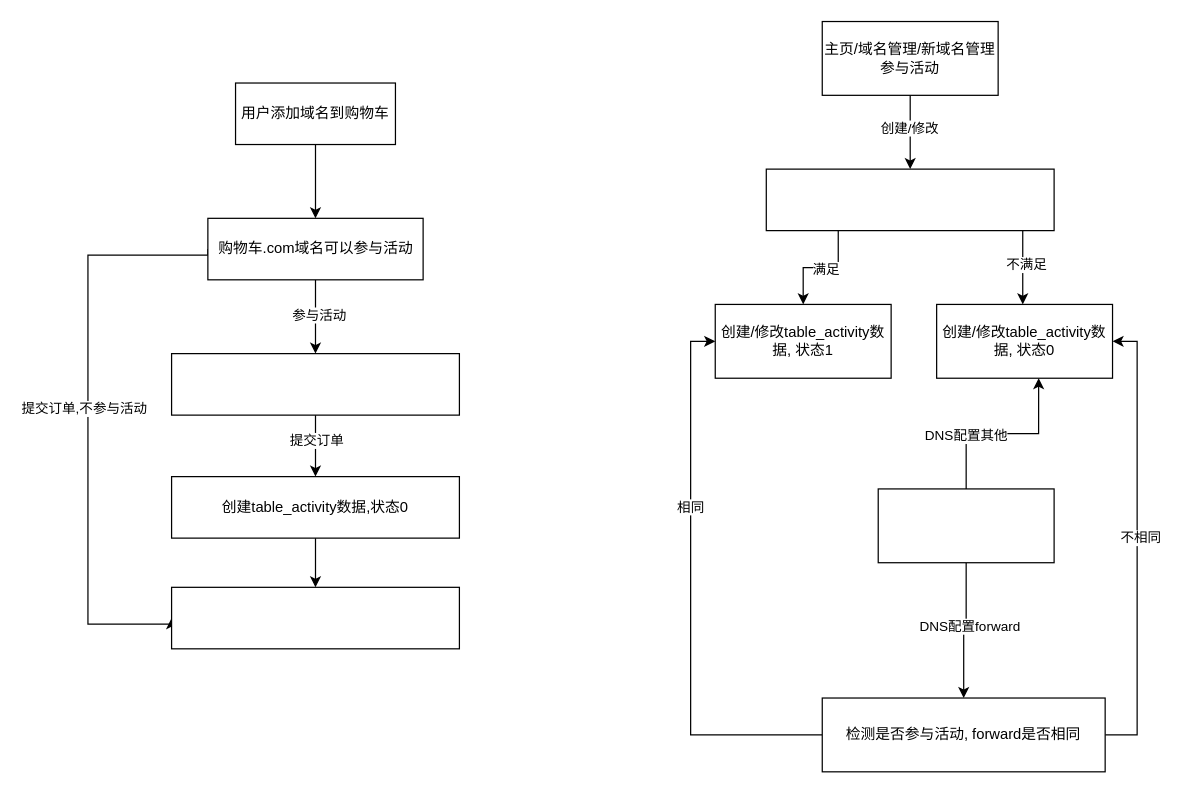
This 1182x793 diagram has some shape labels left out. The centre of each missing label's shape, as x and y in pixels:
"域名管理/新域名管理 DNS设置" goes at (x=965, y=525).
"将用户.com参与活动的信息存储到cookie" goes at (x=314, y=383).
"检测对应域名DNS是否设置forward, 指向是否相同" goes at (x=909, y=199).
"订单结束" goes at (x=314, y=617).
